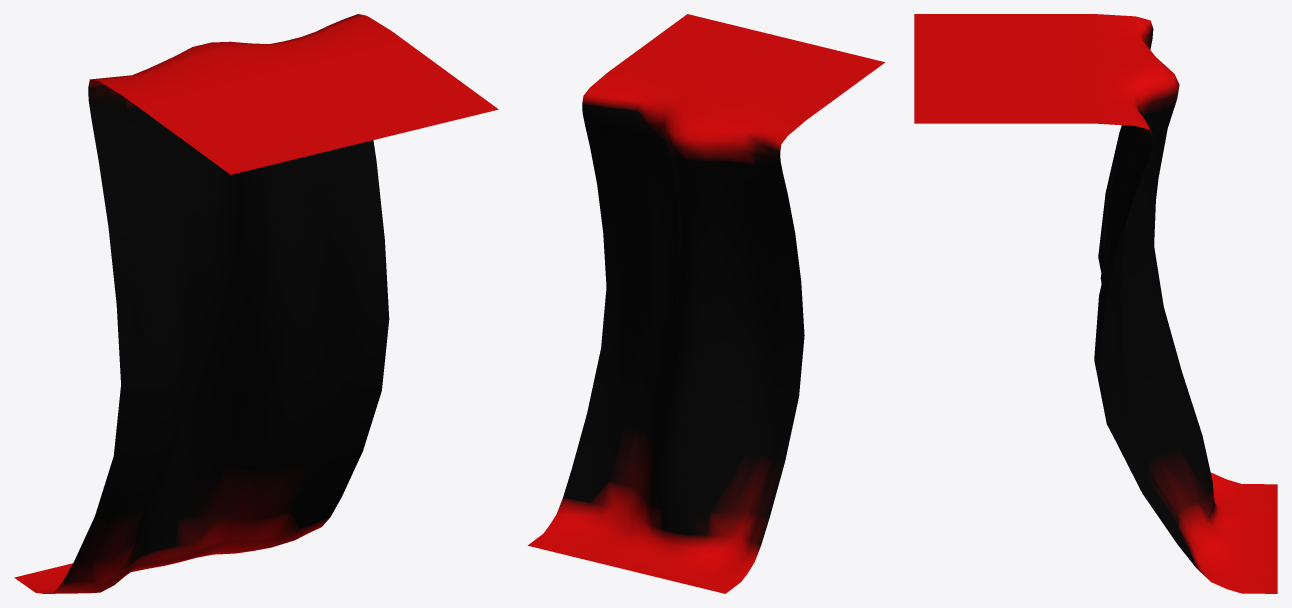
The model's file is GroundCliff00B 2M Foreground.fbx.
The picture shows the model from 3 angles, left to right: view 1: azimuth 30°, elevation 25°; view 2: azimuth 150°, elevation 25°; view 3: azimuth 270°, elevation 25°; orthographic projection. The views are drawn at different scales.
Visible parts, largest first — view 1: GroundCliff00B 2M Foreground; view 2: GroundCliff00B 2M Foreground; view 3: GroundCliff00B 2M Foreground.
Part boxes in pixels (x1,y1,x2,y2): GroundCliff00B 2M Foreground: (14, 14, 498, 593); GroundCliff00B 2M Foreground: (528, 14, 884, 593); GroundCliff00B 2M Foreground: (914, 14, 1277, 593).
Bounding box in the file's own units: 1 × 2 × 1.4.
